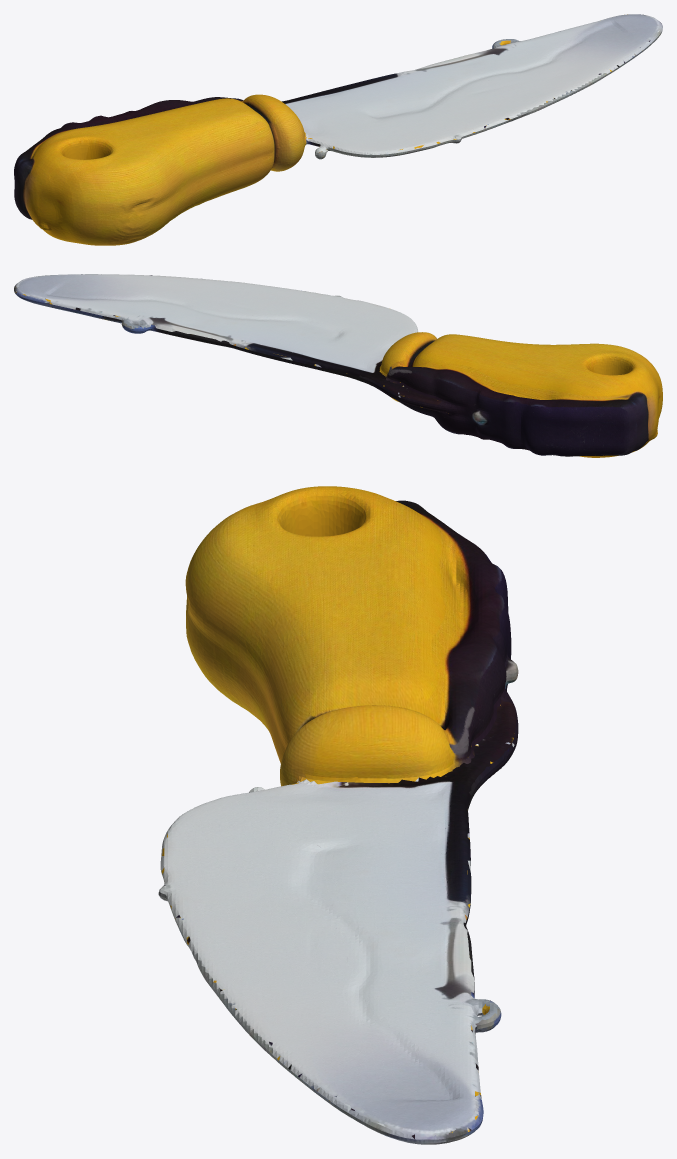
Rendered from image_0000_segmented.glb.
3 views of the same model, one above another, from view 1: azimuth 30°, elevation 25°; view 2: azimuth 150°, elevation 25°; view 3: azimuth 270°, elevation 25° (orthographic). The views are drawn at different scales.
Parts seen in each view (by area): view 1: tmps10odphe.ply; view 2: tmps10odphe.ply; view 3: tmps10odphe.ply.
Boxes of the visible parts, <box> form: tmps10odphe.ply: <box>14,14,662,245</box>; tmps10odphe.ply: <box>14,274,662,457</box>; tmps10odphe.ply: <box>158,486,518,1144</box>.
Bounding box in the file's own units: 1.99 × 0.2443 × 0.5044.
Materials: 1 (1 with a texture image).
